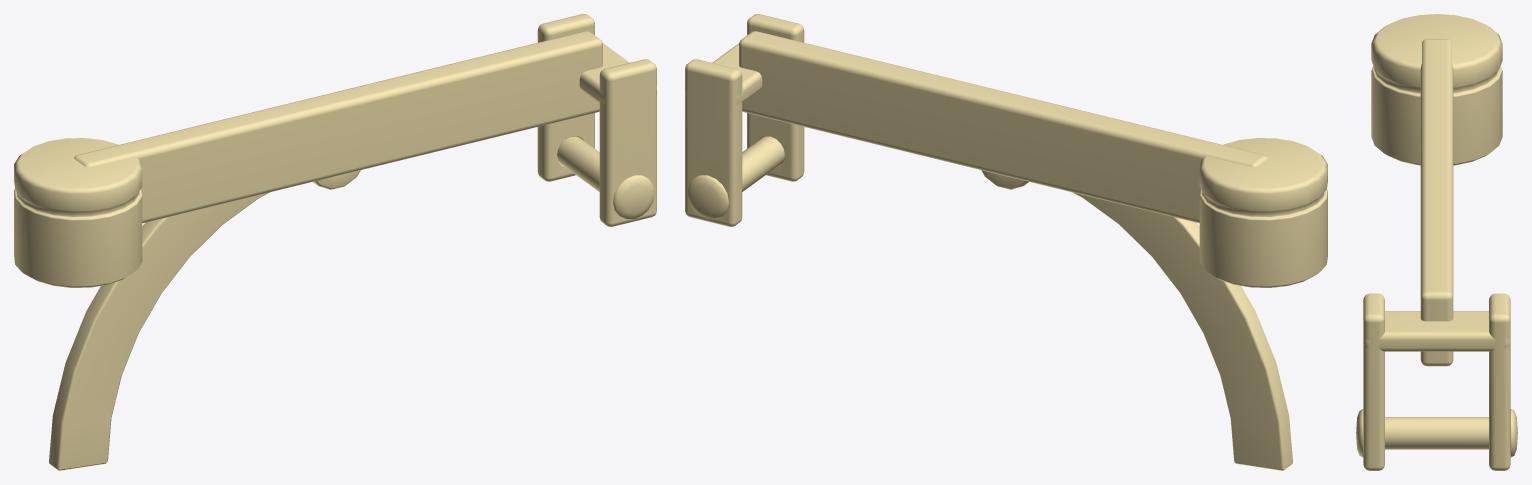
The picture shows the model from 3 angles, left to right: view 1: azimuth 30°, elevation 25°; view 2: azimuth 150°, elevation 25°; view 3: azimuth 270°, elevation 25°; orthographic projection.
Visible parts, largest first — view 1: Fixed / Polished pale brass, Yoke cheek, Yoke cheek.001; view 2: Fixed / Polished pale brass, Yoke cheek.001, Yoke cheek; view 3: Fixed / Polished pale brass, Yoke cheek, Yoke cheek.001.
Boxes of the visible parts, x1,y1,x2,y2 form: Fixed / Polished pale brass: (14, 31, 656, 470); Yoke cheek: (599, 59, 656, 226); Yoke cheek.001: (537, 14, 594, 181); Fixed / Polished pale brass: (685, 31, 1327, 470); Yoke cheek.001: (685, 59, 742, 226); Yoke cheek: (747, 14, 804, 181); Fixed / Polished pale brass: (1356, 14, 1517, 457); Yoke cheek: (1363, 293, 1384, 470); Yoke cheek.001: (1489, 293, 1510, 470).
Size of the model in its own units: 0.0645 by 0.0314 by 0.0148.
